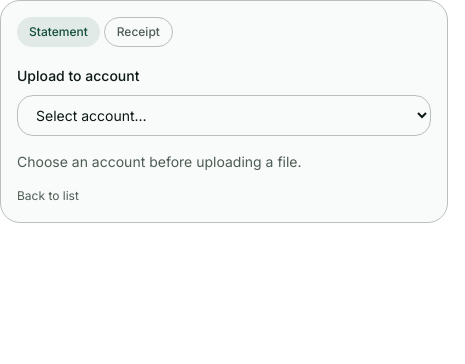
Test: VaultUploadPanel › requires an explicit account choice when opened from the unfiltered (all accounts) view
Expected: the text "Choose an account before uploading a file." is shown, [17,153,302,170]
Expected: the text "Upload bank statement" is not shown
Select "Savings" in the dropdown labelled "Upload to account" at {"x": 224, "y": 116}, box [17,95,431,136]
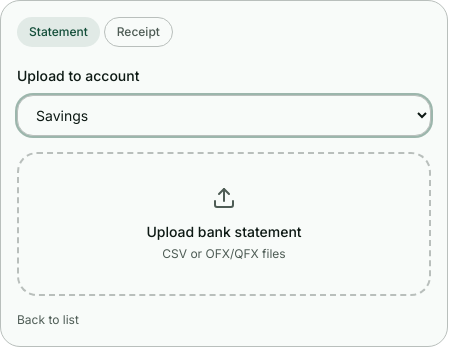
Expected: the text "Upload bank statement" is shown, [146,222,302,242]
